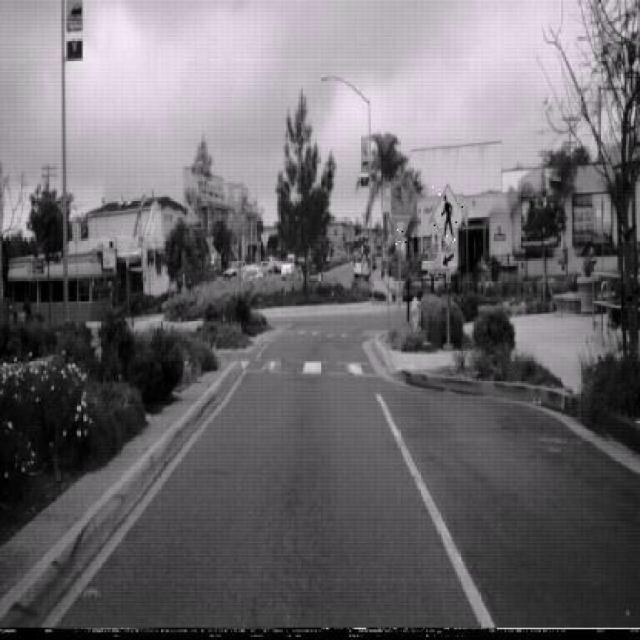pedestrianCrossing: (432, 185, 466, 252)
yield: (390, 212, 410, 248)
